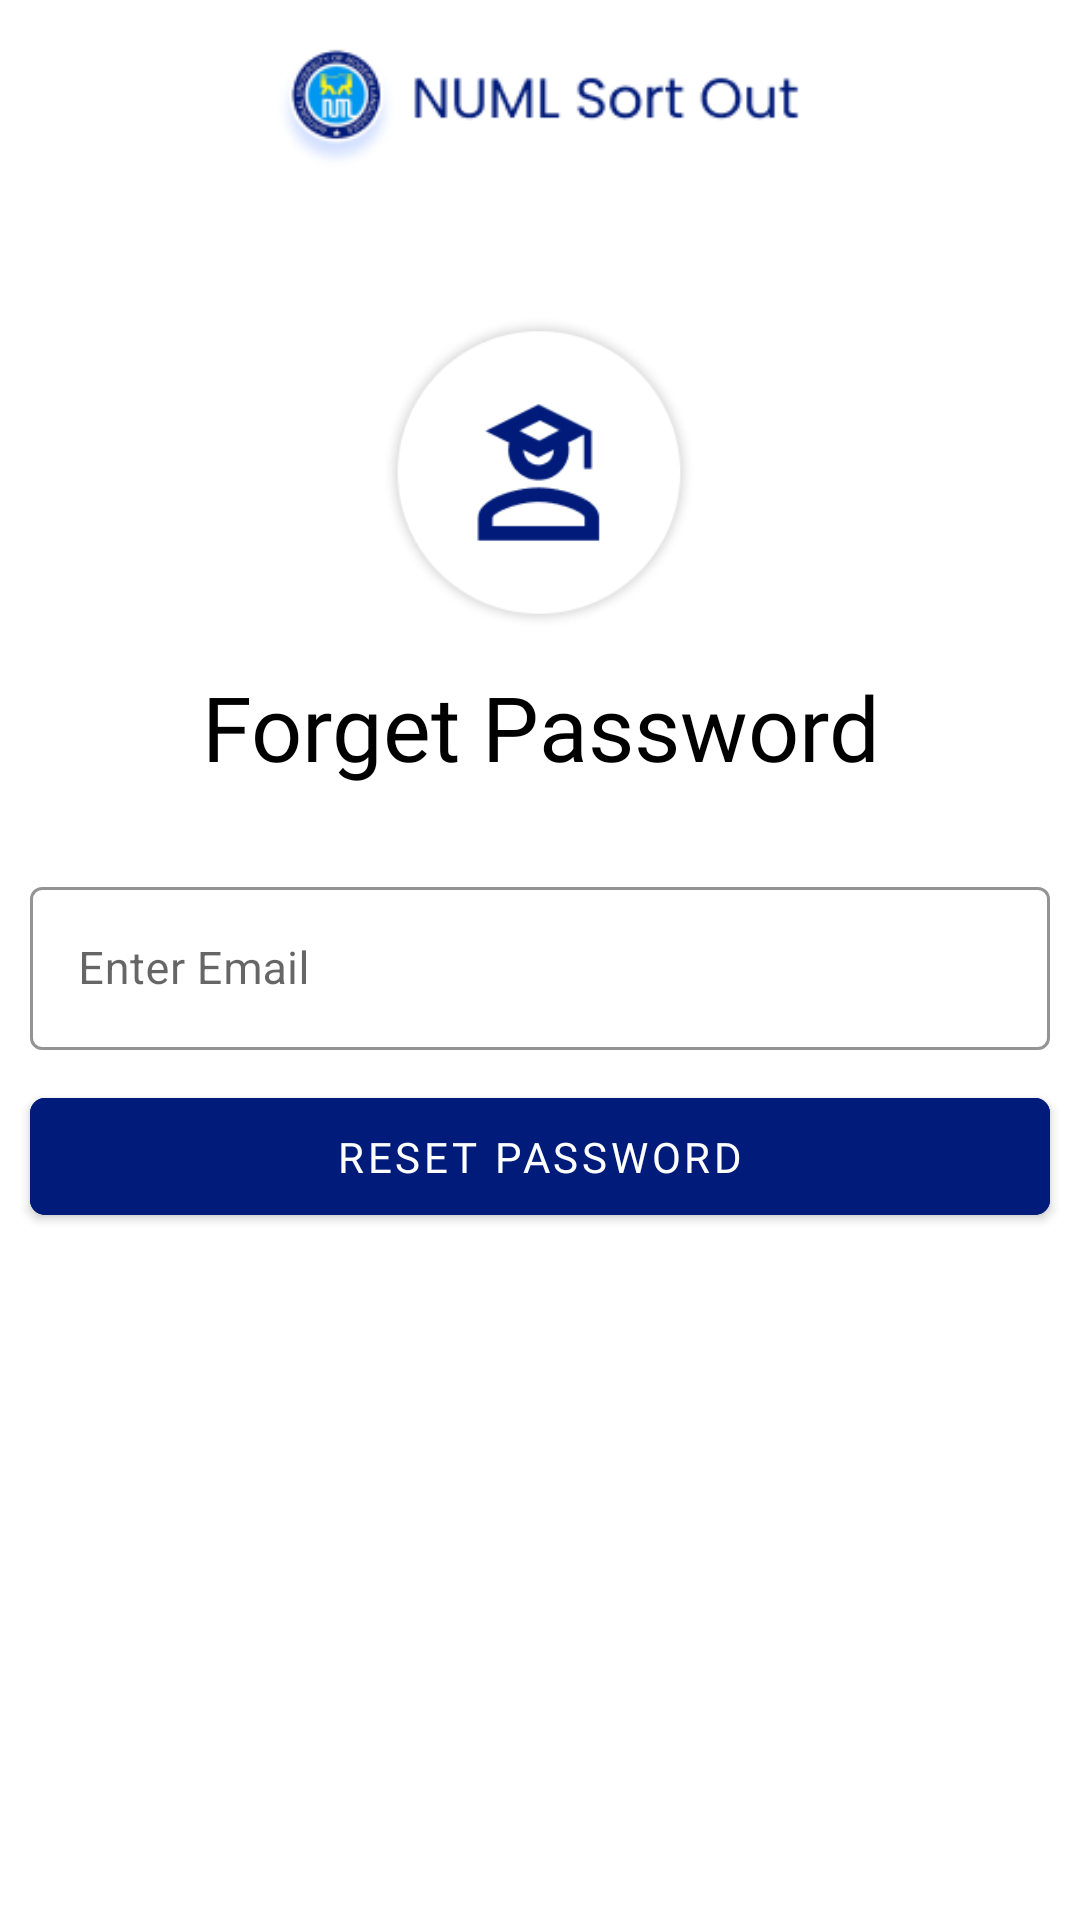

Named icons in this screenshot (1080 × 1920) and their centers, [x,y]:
student: [539,472]
